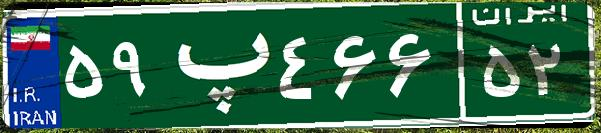2: (525, 38, 570, 115)
4: (273, 28, 330, 110)
5: (57, 26, 110, 107), (475, 38, 525, 113)
6: (385, 28, 445, 110), (330, 28, 385, 110)
9: (110, 28, 158, 105)
پ: (158, 15, 273, 115)
